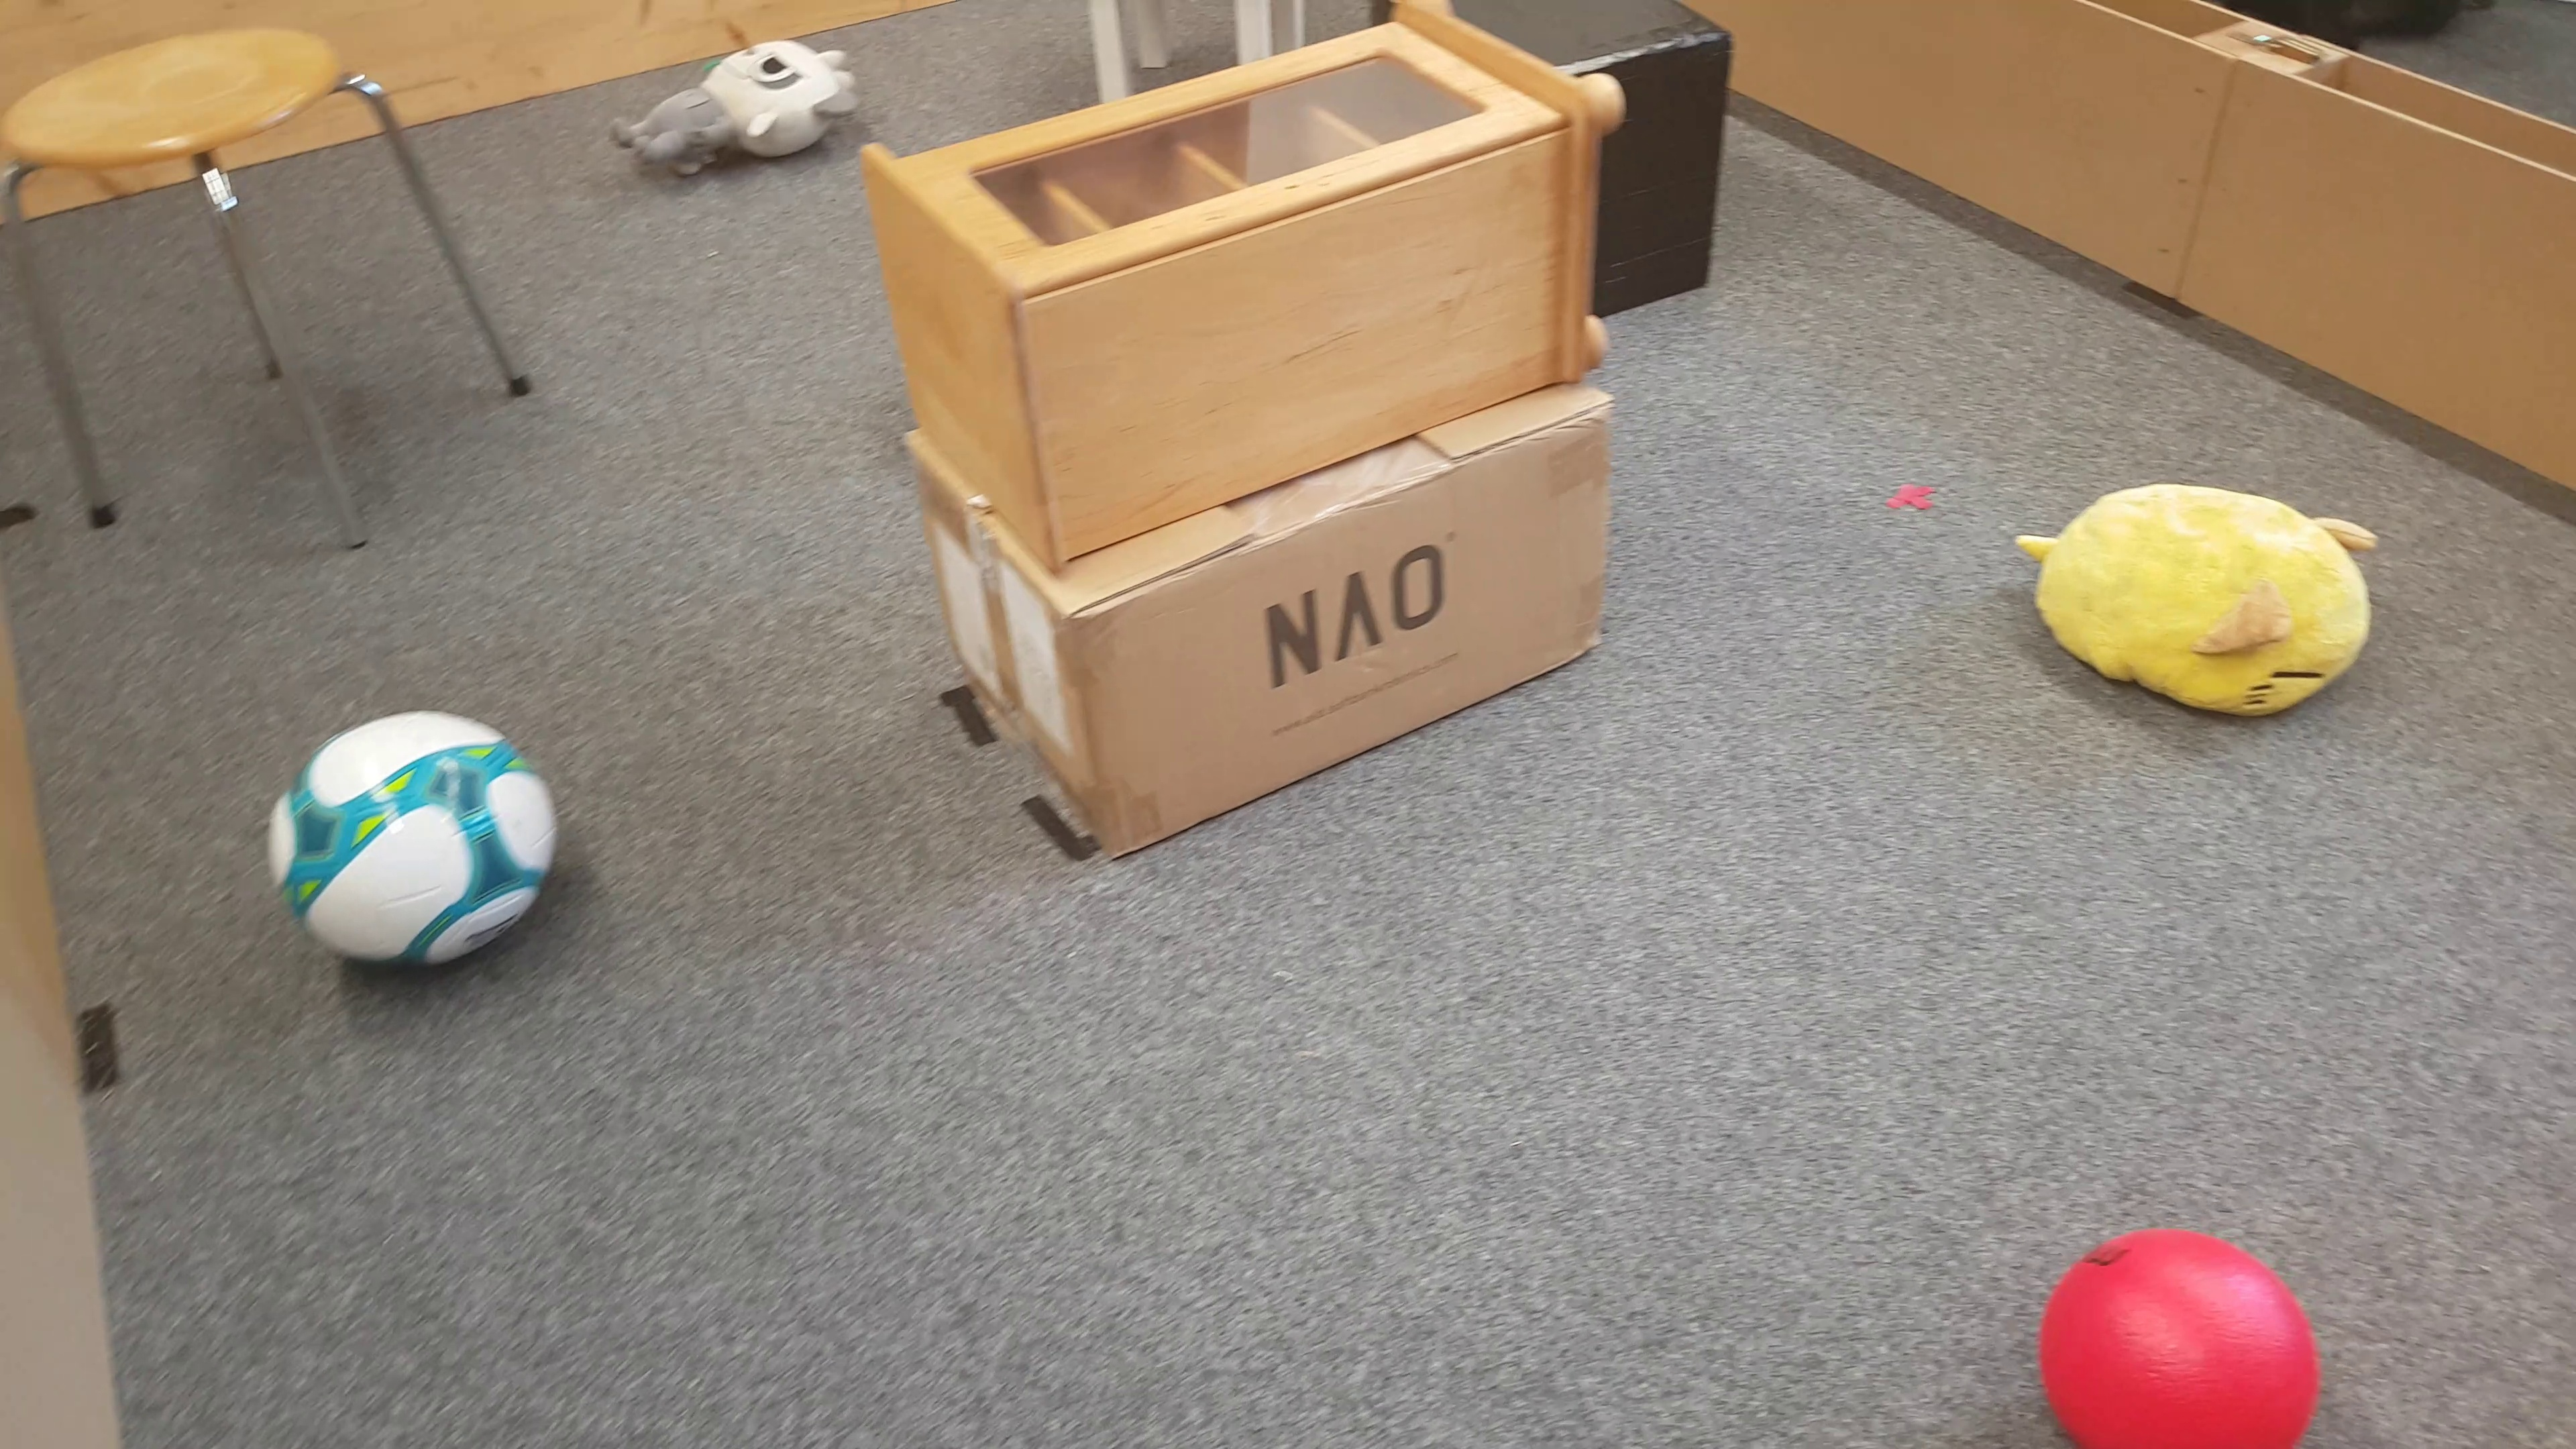grasp: (2001, 483, 2373, 731), (610, 44, 855, 180)
kick: (267, 713, 557, 966), (2038, 1231, 2335, 1449)
push: (1629, 2, 1729, 304)
